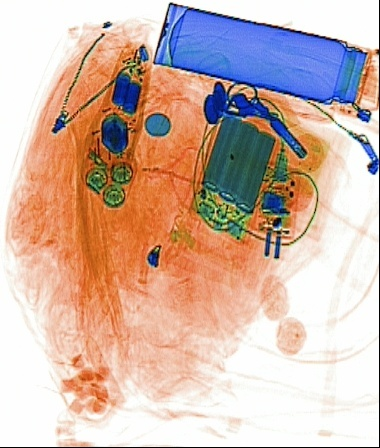powerbank: (187, 103, 282, 246)
